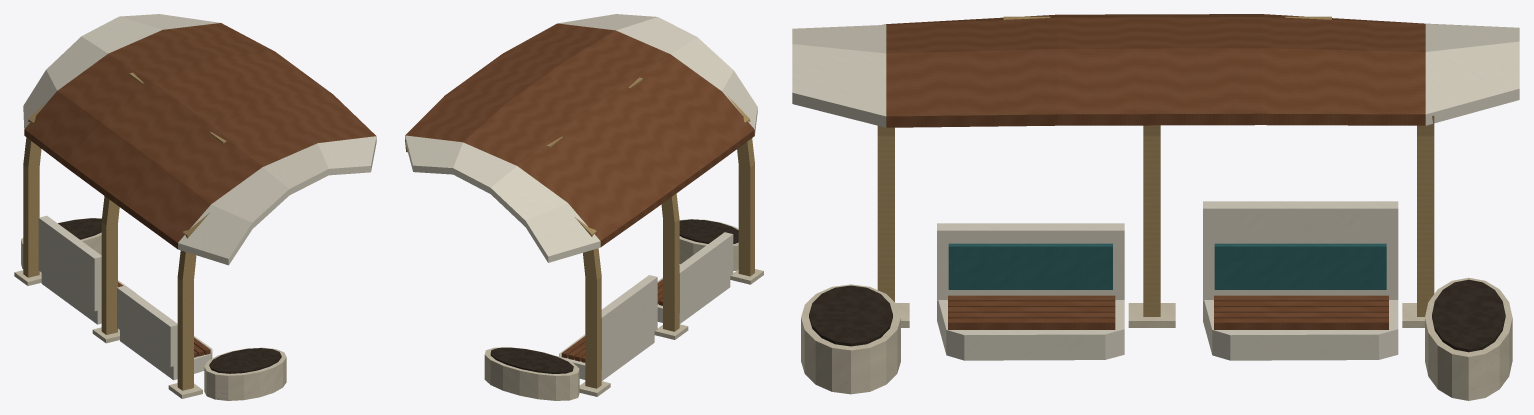
Rendered from AST-GAR-003.glb.
3 renders of one model, left to right at view 1: azimuth 30°, elevation 25°; view 2: azimuth 150°, elevation 25°; view 3: azimuth 270°, elevation 25°, orthographic. The views are drawn at different scales.
Visible parts, largest first — view 1: OVL_Runtime_warm_walnut, OVL_Runtime_ivory_enamel, OVL_Runtime_champagne_metal, OVL_Runtime_warm_stone, OVL_Runtime_botanical_soil; view 2: OVL_Runtime_warm_walnut, OVL_Runtime_ivory_enamel, OVL_Runtime_champagne_metal, OVL_Runtime_warm_stone, OVL_Runtime_botanical_soil; view 3: OVL_Runtime_warm_walnut, OVL_Runtime_ivory_enamel, OVL_Runtime_teal_weave, OVL_Runtime_warm_stone, OVL_Runtime_champagne_metal, OVL_Runtime_botanical_soil.
Part boxes in pixels (box(x1,y1,x2,y2)): OVL_Runtime_warm_walnut: box(24, 23, 375, 357); OVL_Runtime_ivory_enamel: box(23, 14, 376, 380); OVL_Runtime_champagne_metal: box(23, 72, 226, 390); OVL_Runtime_warm_stone: box(14, 218, 286, 400); OVL_Runtime_botanical_soil: box(58, 218, 281, 373); OVL_Runtime_warm_walnut: box(405, 23, 754, 362); OVL_Runtime_ivory_enamel: box(405, 14, 757, 380); OVL_Runtime_champagne_metal: box(405, 77, 754, 388); OVL_Runtime_warm_stone: box(484, 219, 763, 400); OVL_Runtime_botanical_soil: box(490, 219, 738, 373); OVL_Runtime_warm_walnut: box(886, 14, 1425, 329); OVL_Runtime_ivory_enamel: box(792, 23, 1519, 360); OVL_Runtime_teal_weave: box(948, 243, 1386, 289); OVL_Runtime_warm_stone: box(801, 277, 1512, 400); OVL_Runtime_champagne_metal: box(877, 16, 1434, 316); OVL_Runtime_botanical_soil: box(809, 279, 1505, 352).
Bounding box in the file's own units: 5.4 × 5.45 × 9.3.
7 materials, 6 textured.
